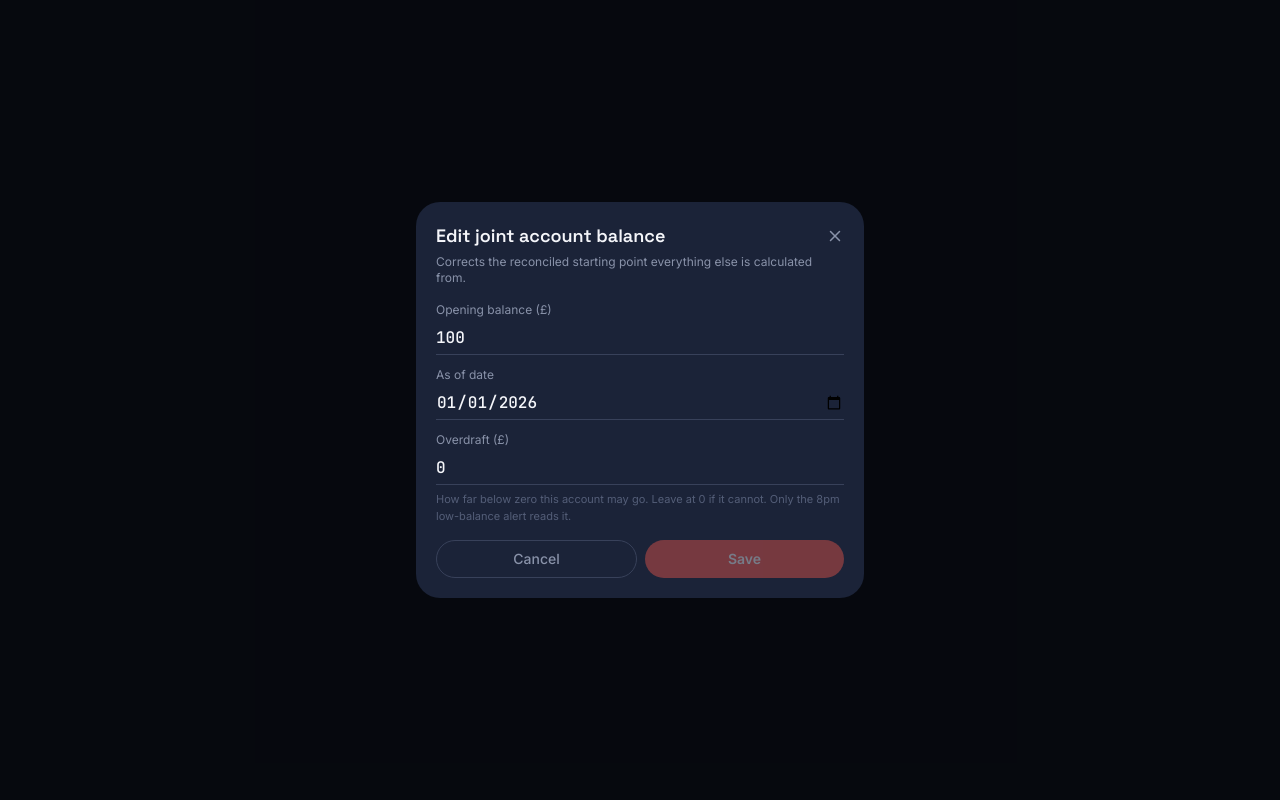
it: the joint account › changing the overdraft enables it
This screenshot has width=1280, height=800.
Replace the text in the number field labelled "Overdraft (£)" with "500" at coordinates (640, 468), box [436,452,844,485]
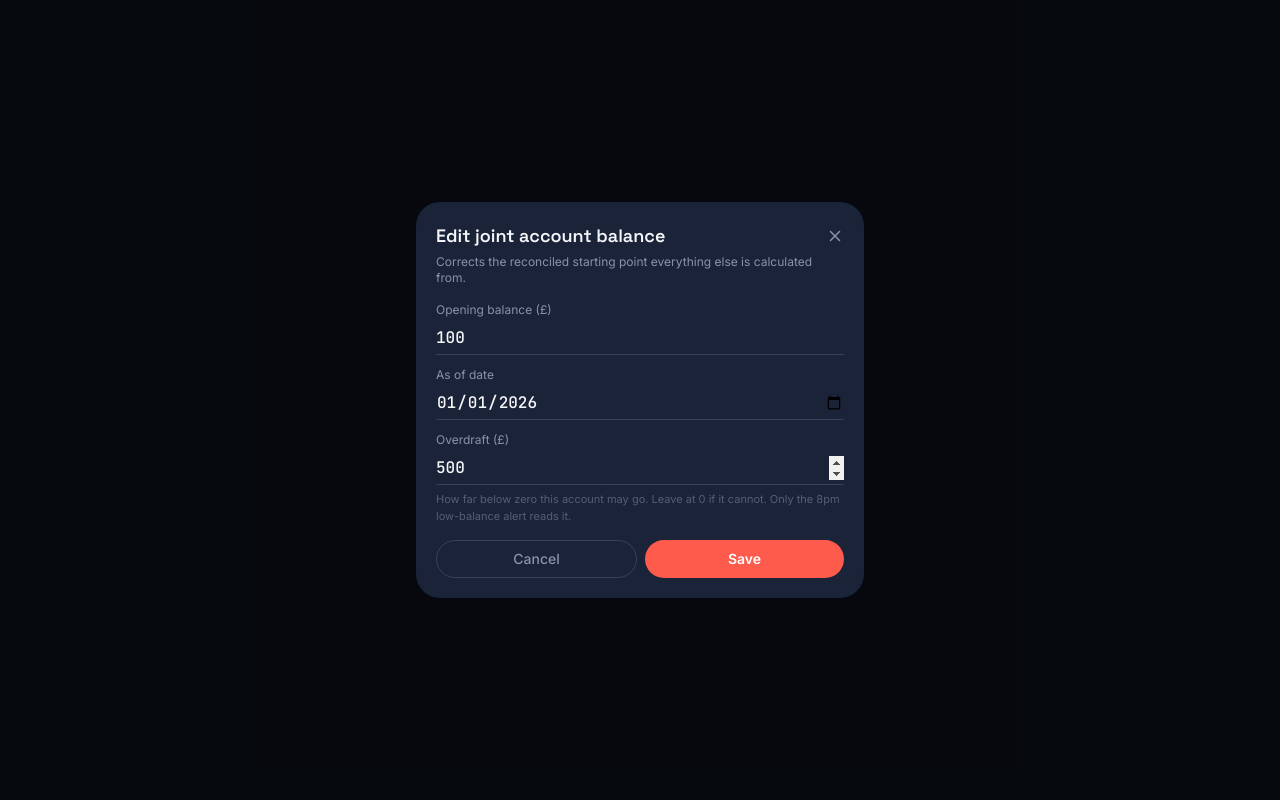
Result: the button "Save" is enabled at [645,540,844,578]
